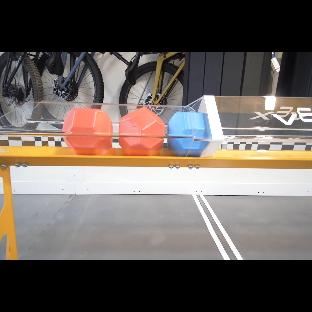blueingoal: (167, 112, 211, 156)
